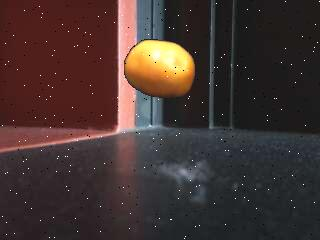Potato: (124, 39, 196, 99)
